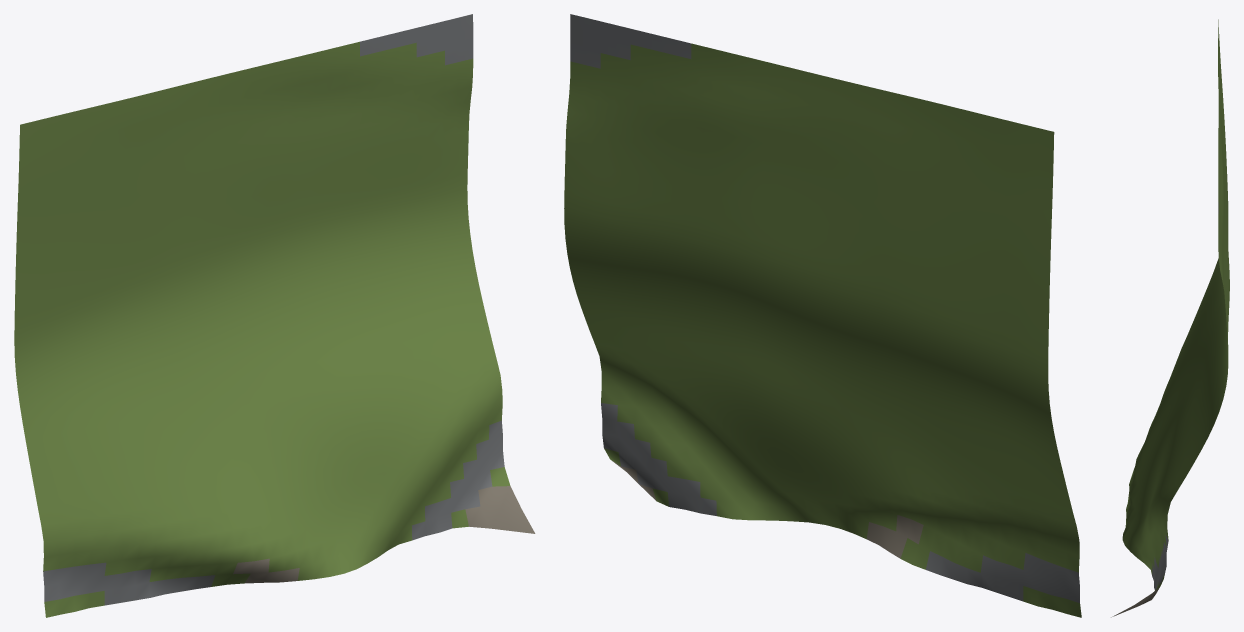
Rendered from island_terrain_24_09.obj.
3 views of the same model, side by side, from view 1: azimuth 30°, elevation 25°; view 2: azimuth 150°, elevation 25°; view 3: azimuth 270°, elevation 25° (orthographic). The views are drawn at different scales.
Parts seen in each view (by area): view 1: island_terrain_24_09; view 2: island_terrain_24_09; view 3: island_terrain_24_09.
Part boxes in pixels (left/top/right/bottom): island_terrain_24_09: left=14, top=14, right=535, bottom=617; island_terrain_24_09: left=564, top=14, right=1081, bottom=617; island_terrain_24_09: left=1111, top=19, right=1229, bottom=617.
Bounding box in the file's own units: 256 × 256 × 67.48.
